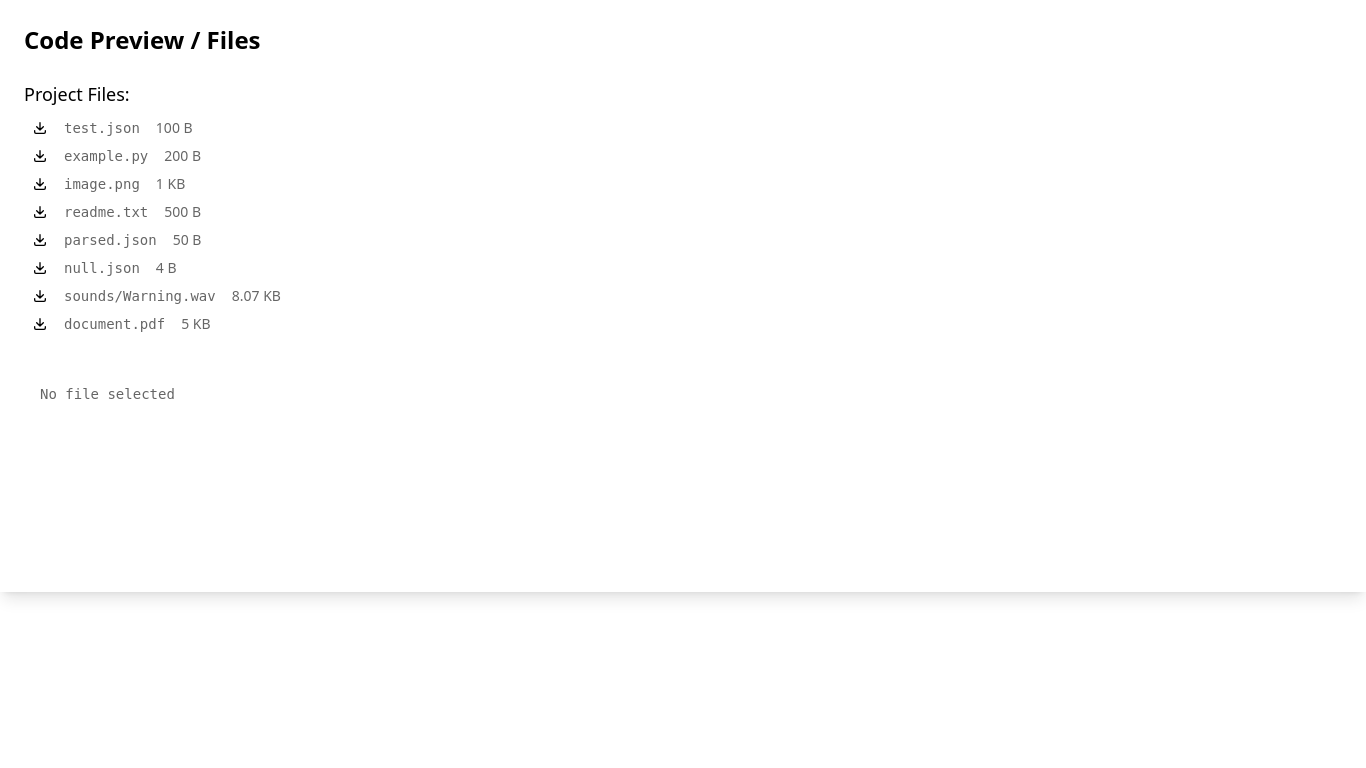
it: AppCodePreview › shows image preview for image files
// Click on image file
Click the button "image.png". click: (102, 184)
box: [64,174,140,194]
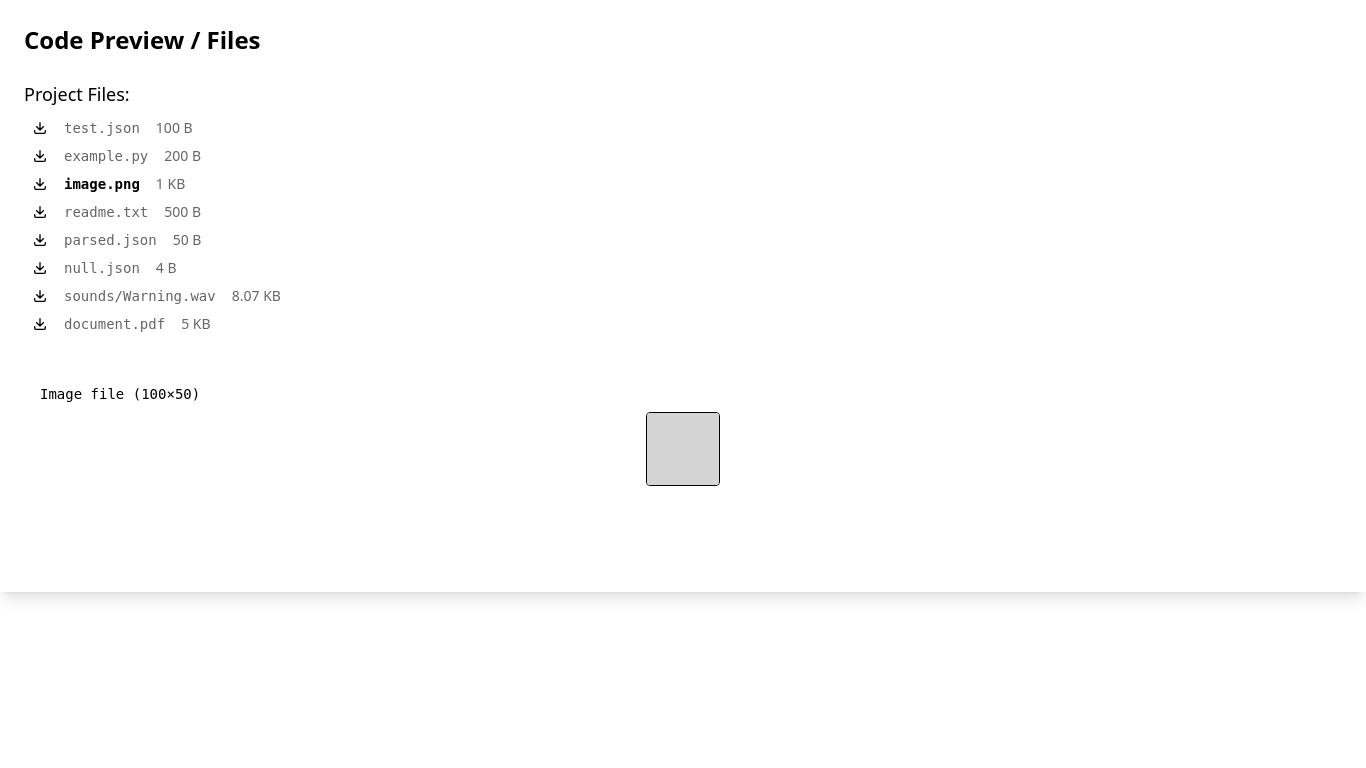
Now the text "Image file (100×50)" is shown, box [40,386,200,402]
